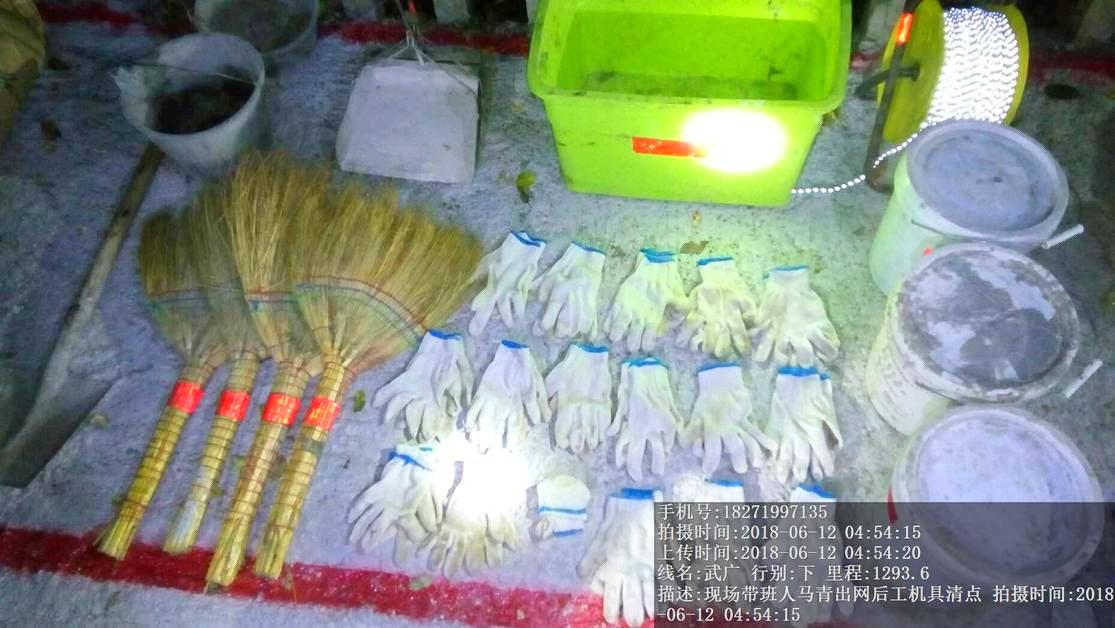SB: (302, 173, 467, 479), (101, 227, 228, 558)
SNT: (110, 38, 289, 164)
T: (516, 1, 853, 214)
